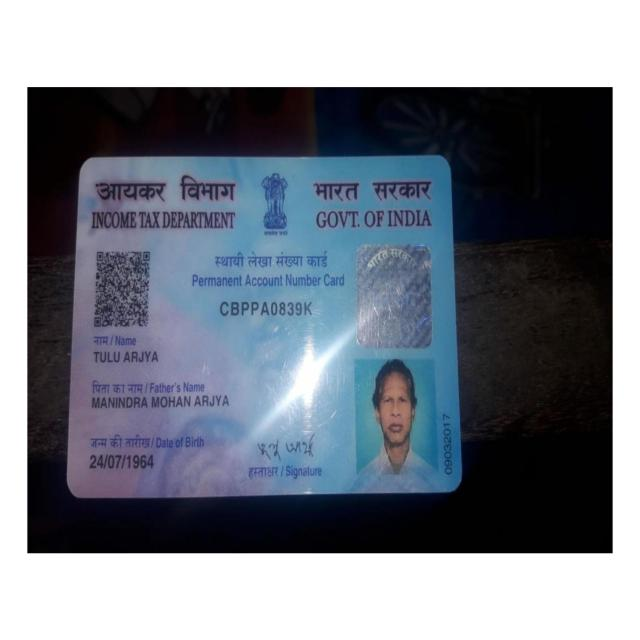pan_card: (72, 159, 456, 491), (79, 162, 79, 168)
